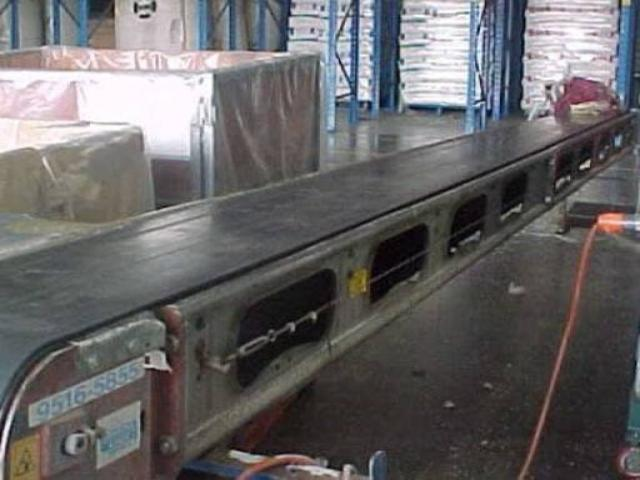conveyor: (7, 102, 640, 452)
